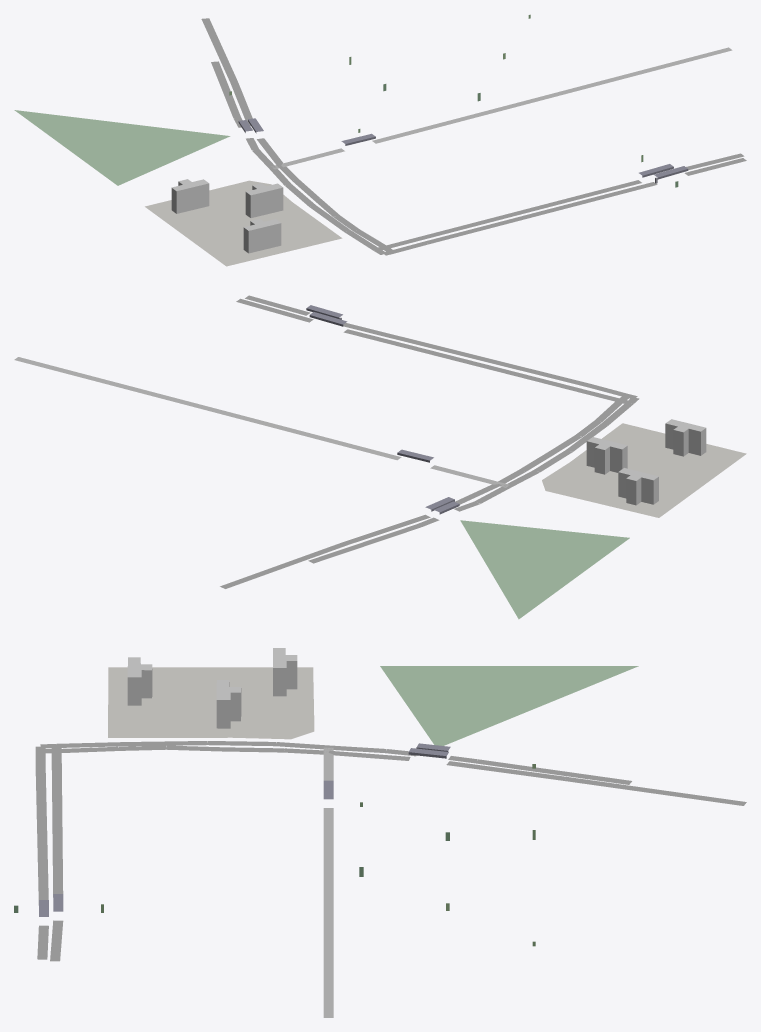
The picture shows the model from 3 angles, top to bottom: view 1: azimuth 30°, elevation 25°; view 2: azimuth 150°, elevation 25°; view 3: azimuth 270°, elevation 25°; orthographic projection. The views are drawn at different scales.
Size of the model in its own units: 594 by 22.28 by 509.
